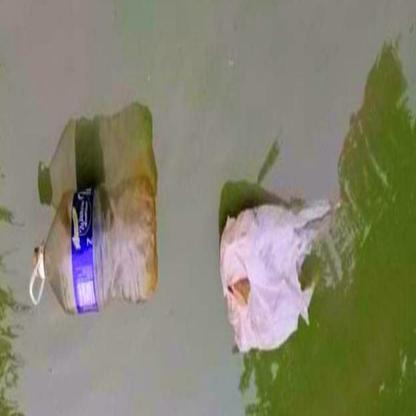plastic bag: (219, 194, 331, 354)
plastic bottle: (25, 178, 163, 311)
